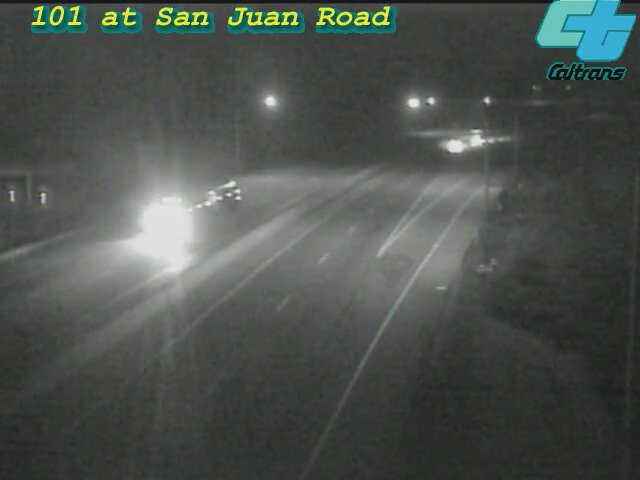vehicle: (139, 168, 219, 248), (455, 111, 505, 161), (432, 119, 482, 169)
